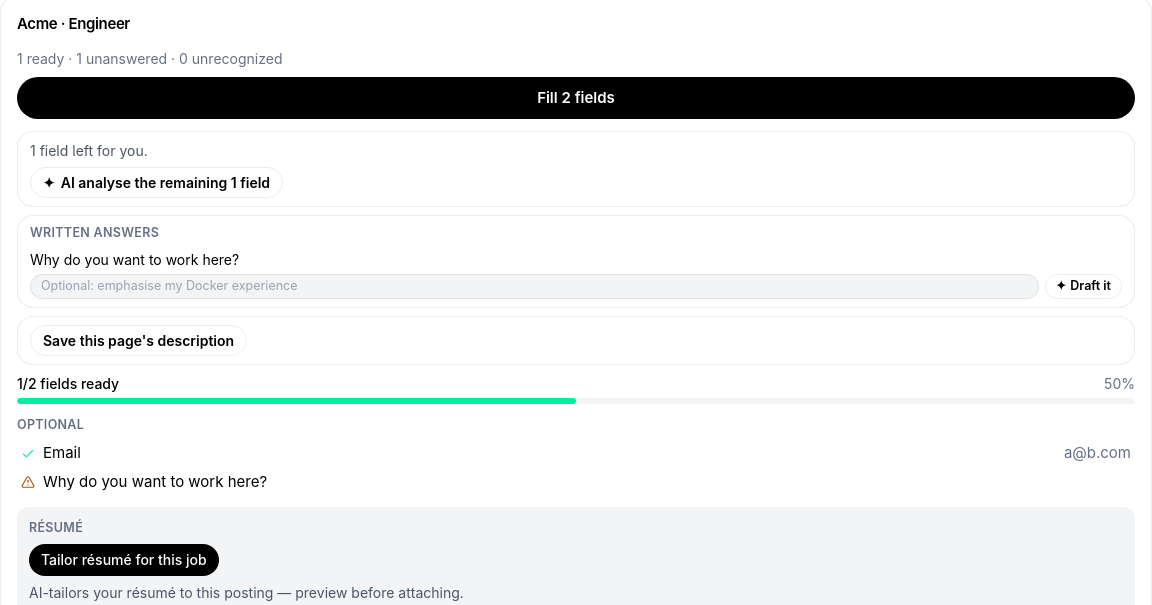
Test: FillPanel › fit signal / field jump / mark applied › after reporting, 'I've submitted' resolves the fill as applied-manually
Click the button "Fill 2 fields" at (576, 98), box [17,76,1135,119]
(page scrolled)
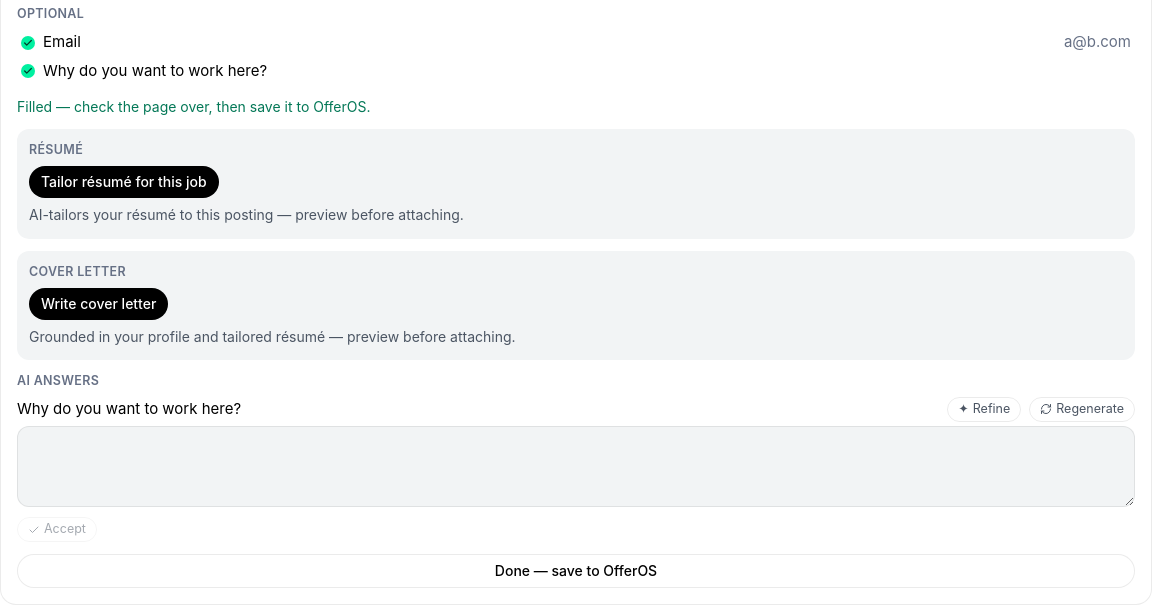
Click the button "Done — save to OfferOS" at (576, 571), box [17,554,1135,588]
(page scrolled)
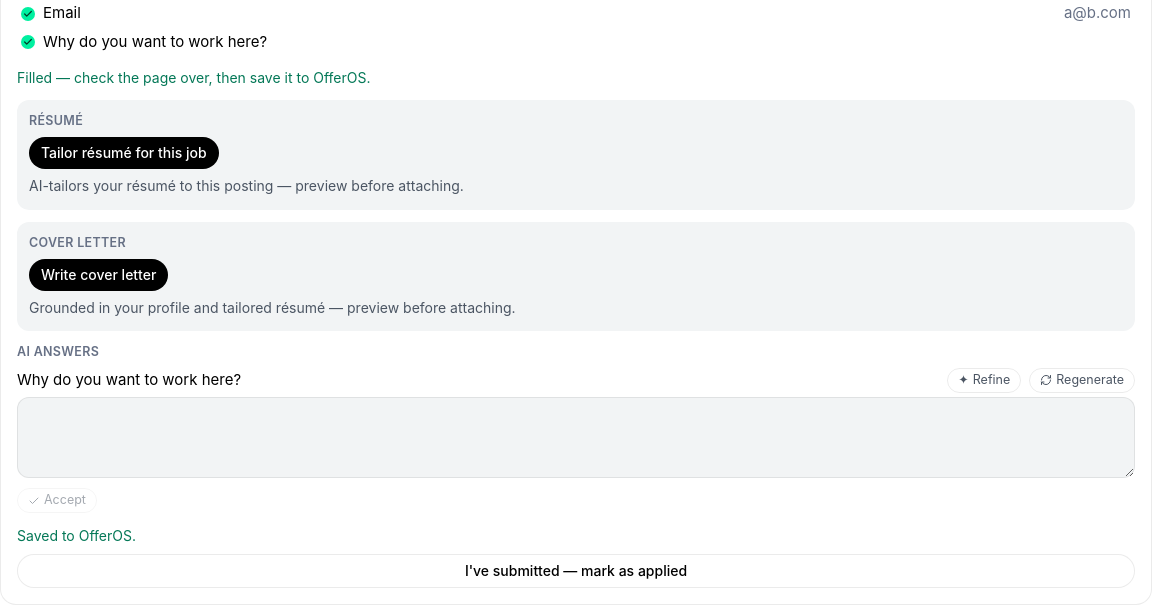
Click the button "I've submitted — mark as applied" at (576, 571), box [17,554,1135,588]
(page scrolled)
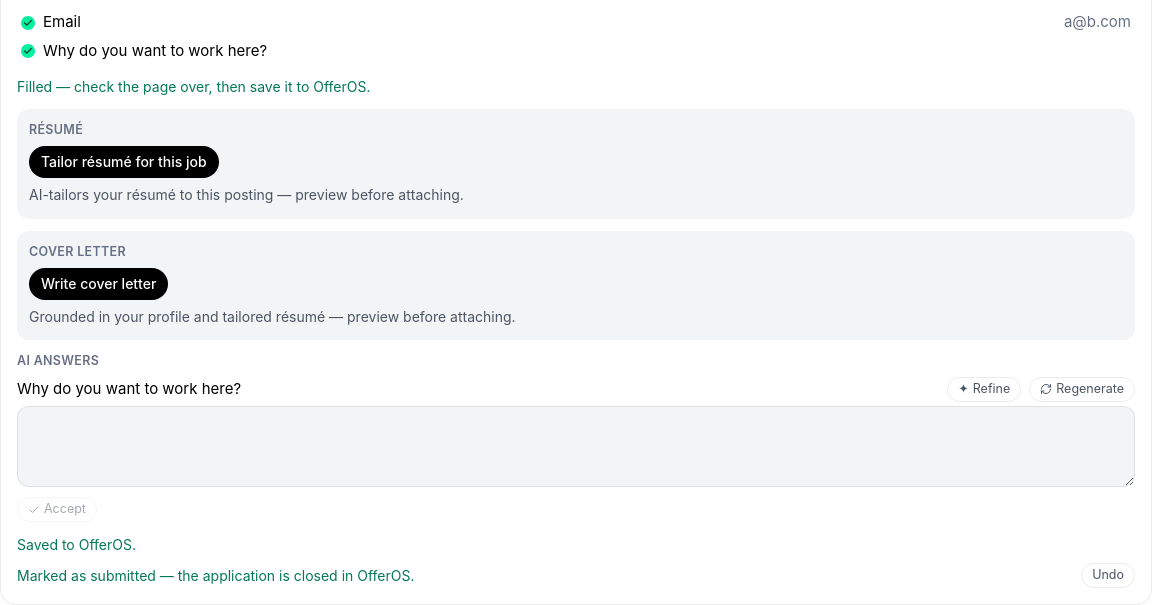
Check: the text "Marked as submitted — the application is closed in OfferOS." is shown, box [17,565,414,586]
